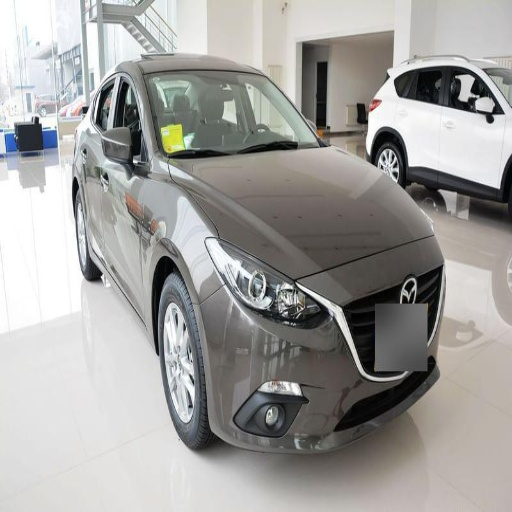back_left_light: (79, 72, 118, 258), (398, 65, 446, 164)
back_right_light: (205, 240, 439, 452)
front_bumper: (144, 70, 324, 157)
front_left_light: (103, 71, 143, 309), (442, 66, 504, 180)
front_right_door: (207, 235, 326, 326)
front_right_light: (169, 149, 432, 277)
trunk: (155, 275, 211, 450), (73, 183, 90, 275)
